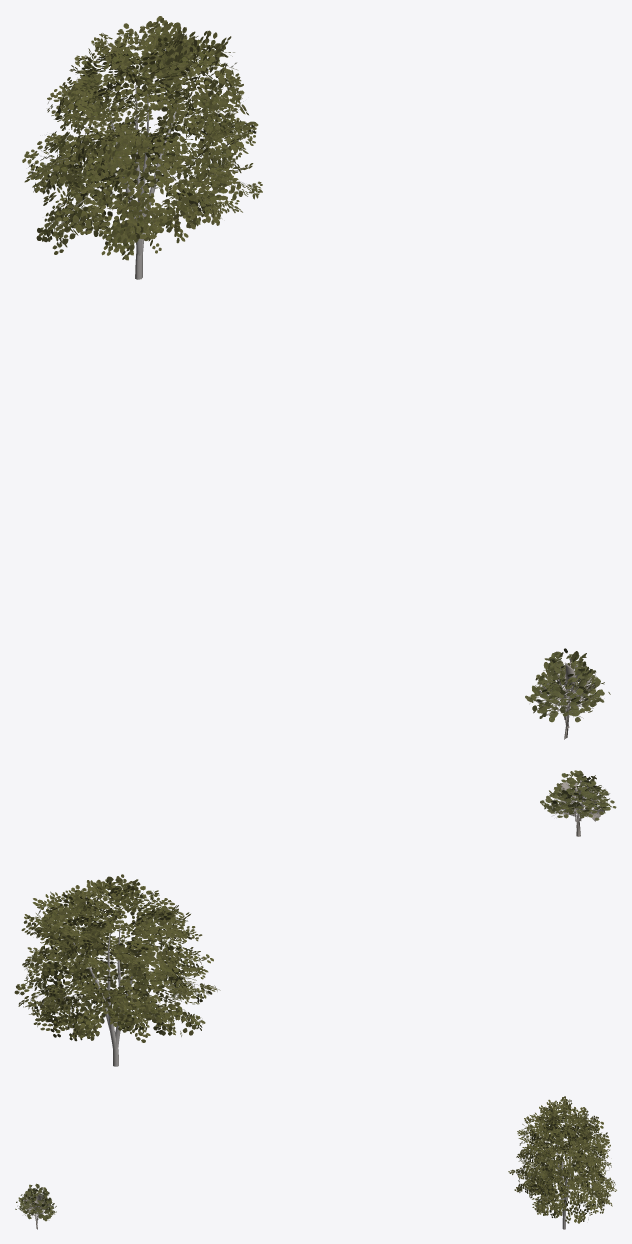
The picture shows the model from 3 angles, top to bottom: view 1: azimuth 30°, elevation 25°; view 2: azimuth 150°, elevation 25°; view 3: azimuth 270°, elevation 25°; orthographic projection. The views are drawn at different scales.
Visible parts, largest first — view 1: NT_RedMaple_0100, NT_PinOak_0419; view 2: NT_RedMaple_0100, NT_PinOak_0419; view 3: NT_RedMaple_0100, NT_PinOak_0419.
Part boxes in pixels (box(x1,y1,x2,y2)): NT_RedMaple_0100: box(22, 16, 262, 279); NT_PinOak_0419: box(525, 648, 610, 739); NT_RedMaple_0100: box(14, 874, 220, 1066); NT_PinOak_0419: box(540, 770, 616, 836); NT_RedMaple_0100: box(508, 1096, 616, 1229); NT_PinOak_0419: box(15, 1183, 56, 1229).
Bounding box in the file's own units: 23.62 × 25.97 × 95.07.
Materials: 4 (2 with a texture image).
